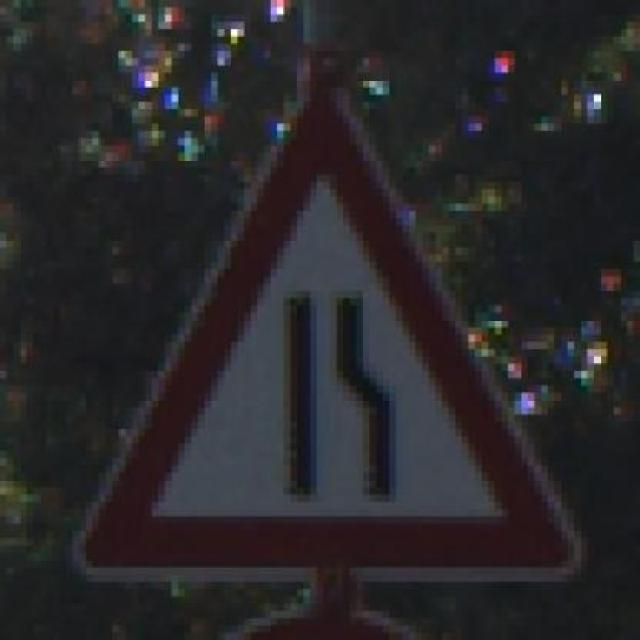-Road narrows on right: (59, 65, 601, 582)
